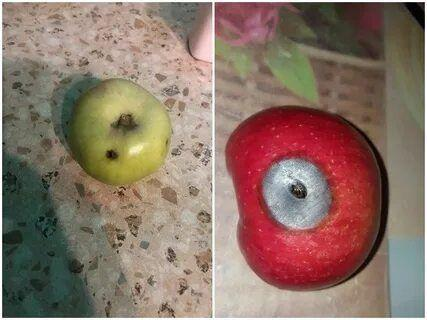Apple: (224, 107, 384, 290), (71, 80, 171, 187)
